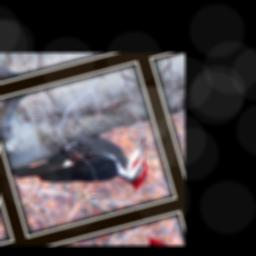Woodpecker: (3, 114, 159, 221)
